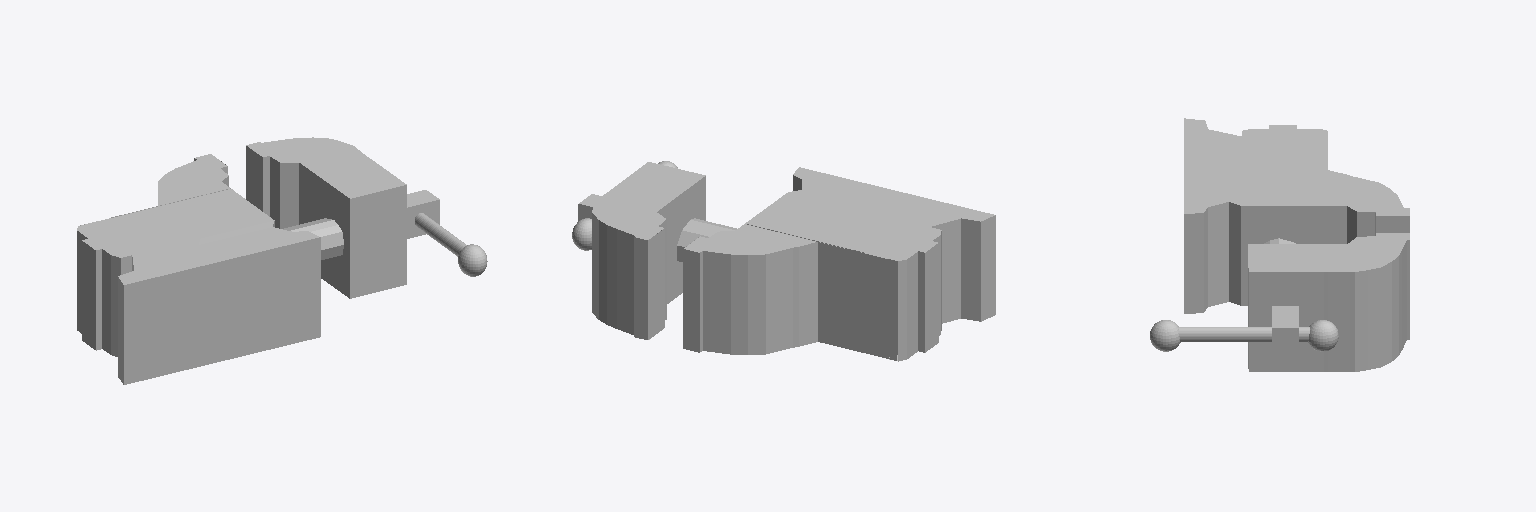
Rendered from vice.obj.
3 renders of one model, left to right at view 1: azimuth 30°, elevation 25°; view 2: azimuth 150°, elevation 25°; view 3: azimuth 270°, elevation 25°, orthographic.
Visible parts, largest first — view 1: Sphere; view 2: Sphere; view 3: Sphere.
Boxes of the visible parts, x1=… form: Sphere: x1=77, y1=137, x2=487, y2=384; Sphere: x1=572, y1=161, x2=995, y2=361; Sphere: x1=1150, y1=118, x2=1409, y2=371.
Bounding box in the file's own units: 3.79 × 1.01 × 2.37.